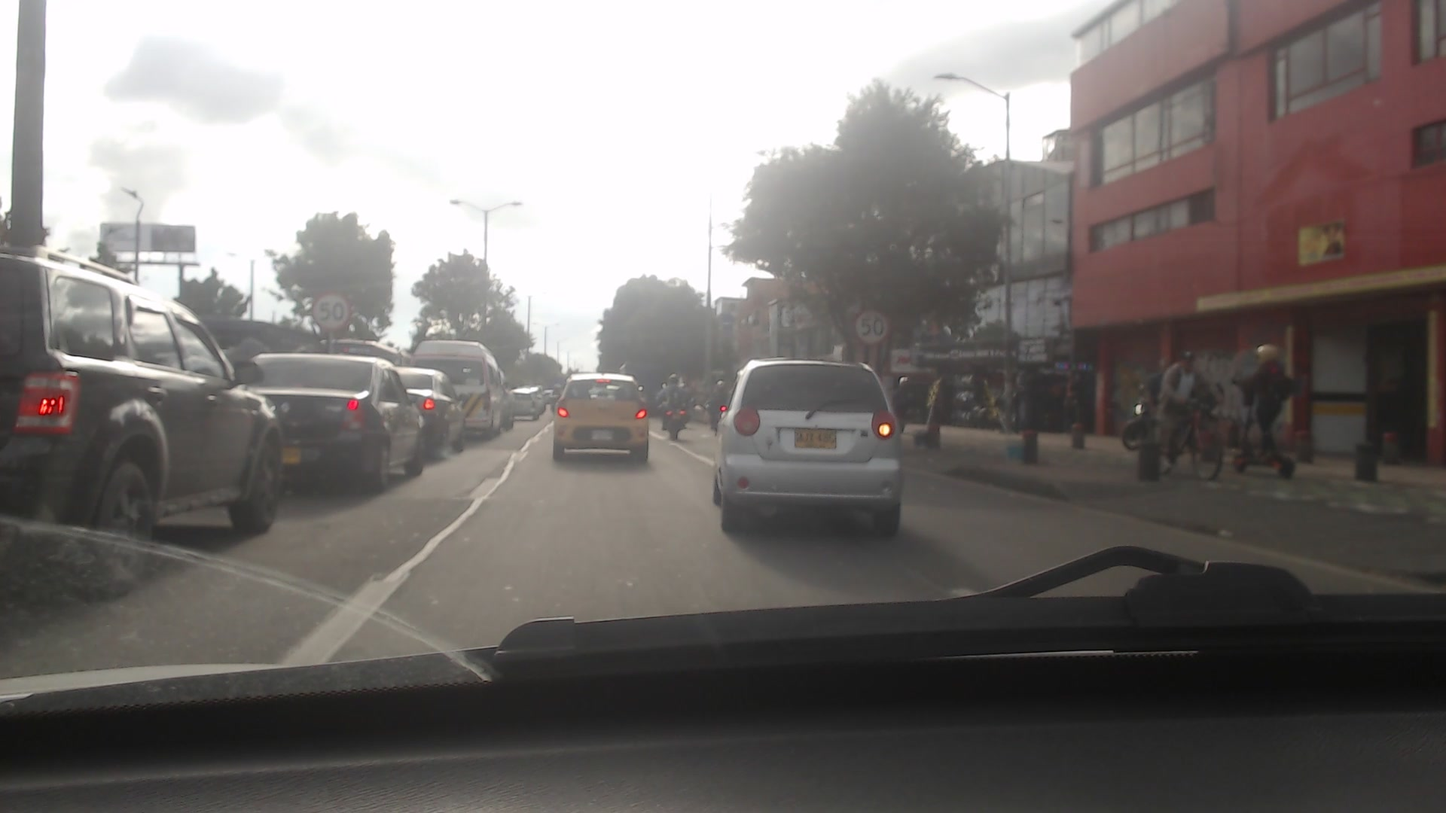bus: (404, 337, 509, 435)
car: (0, 254, 291, 604), (717, 354, 905, 541), (235, 353, 432, 484), (553, 369, 652, 466), (386, 366, 471, 452), (504, 383, 545, 418)
motorcycle: (1142, 401, 1228, 483), (652, 398, 697, 440)
person: (1149, 339, 1207, 455), (1241, 341, 1295, 459), (658, 373, 694, 428)
